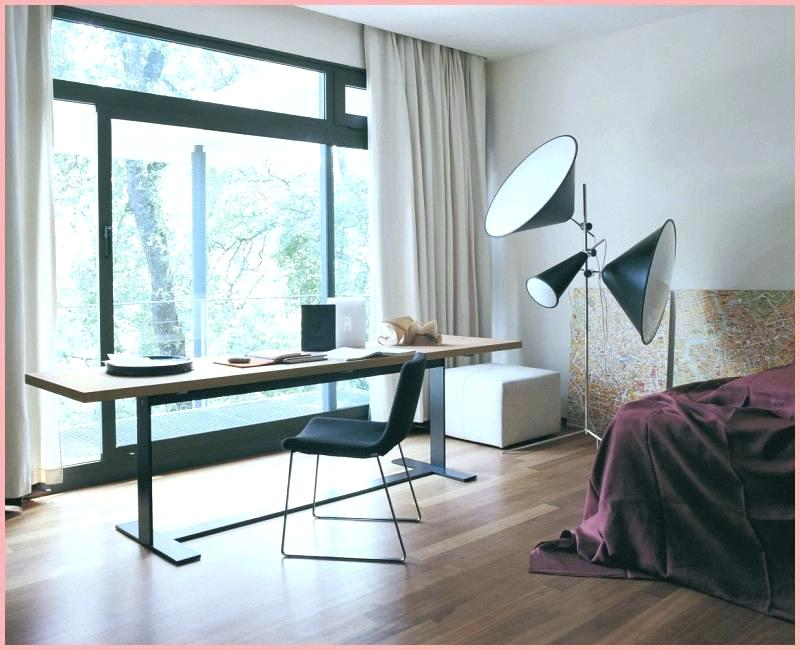chairs: (277, 348, 439, 572)
